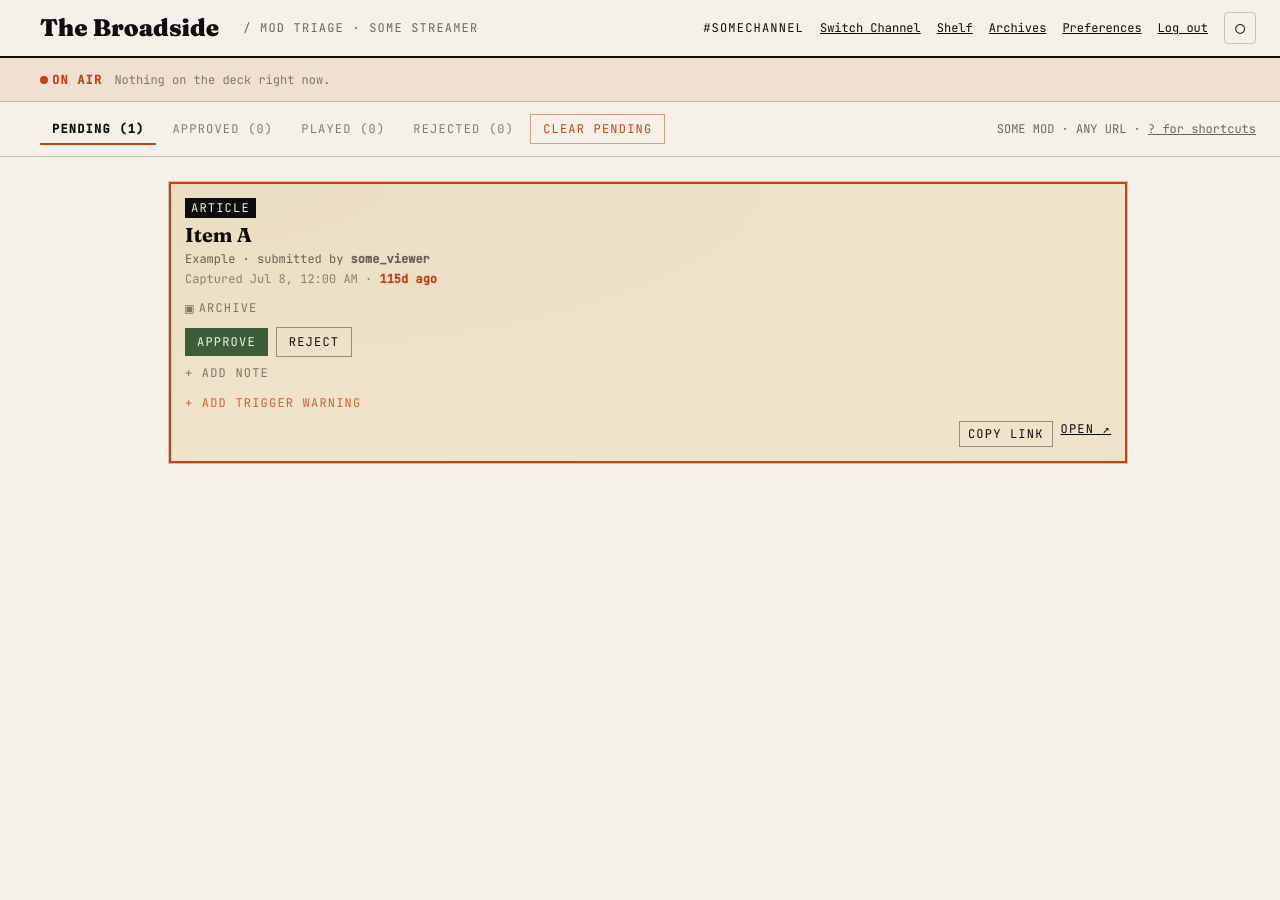
Test case: ModView — undo on approve/reject › approving removes the item and offers Undo, which writes it back to pending
Expected: the heading "Item A" is shown, [185,222,252,247]
Click the button "Approve".
click(226, 342)  # box [185,328,268,356]
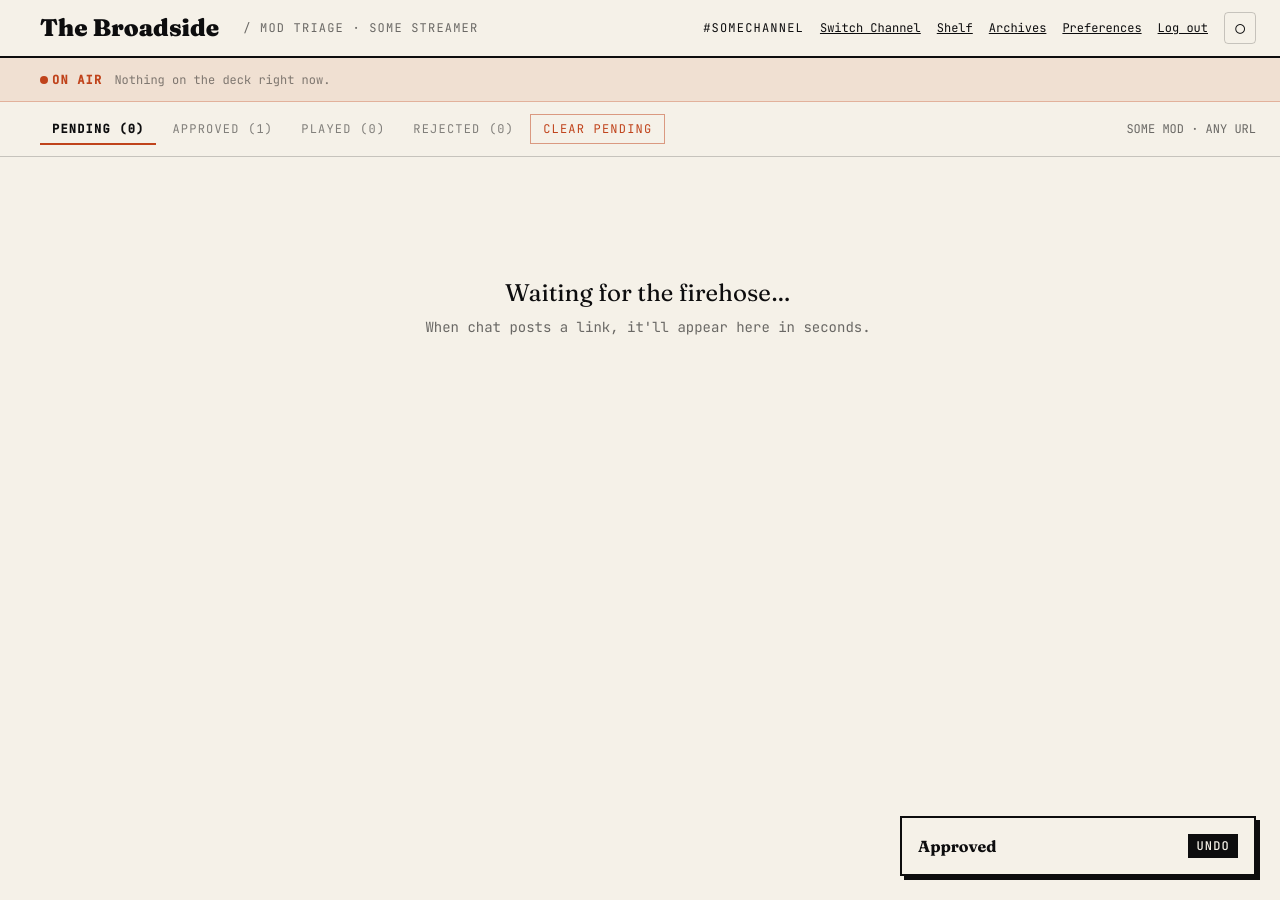
Now the heading "Item A" is gone
Click the button "Undo".
click(1213, 846)  # box [1188,834,1238,858]
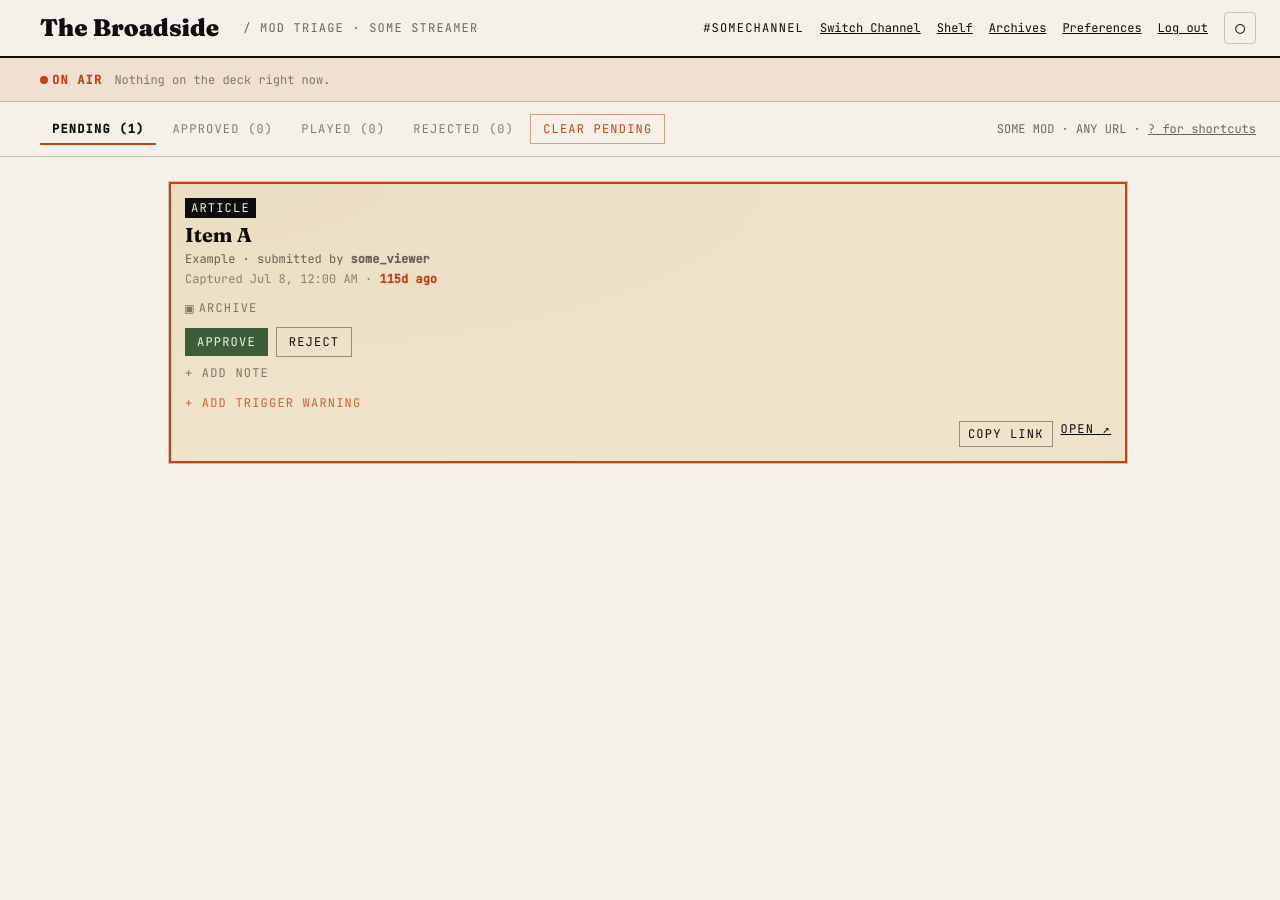
Now the heading "Item A" is shown, box [185,222,252,247]
